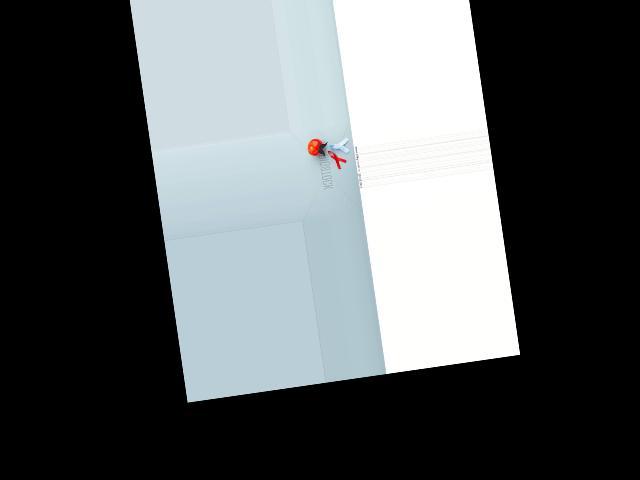tomato: (306, 138, 325, 157)
